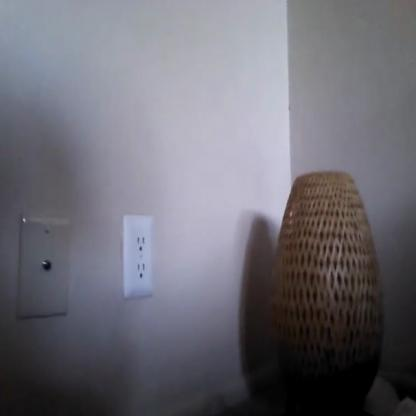OUTLET: (123, 213, 154, 297)
